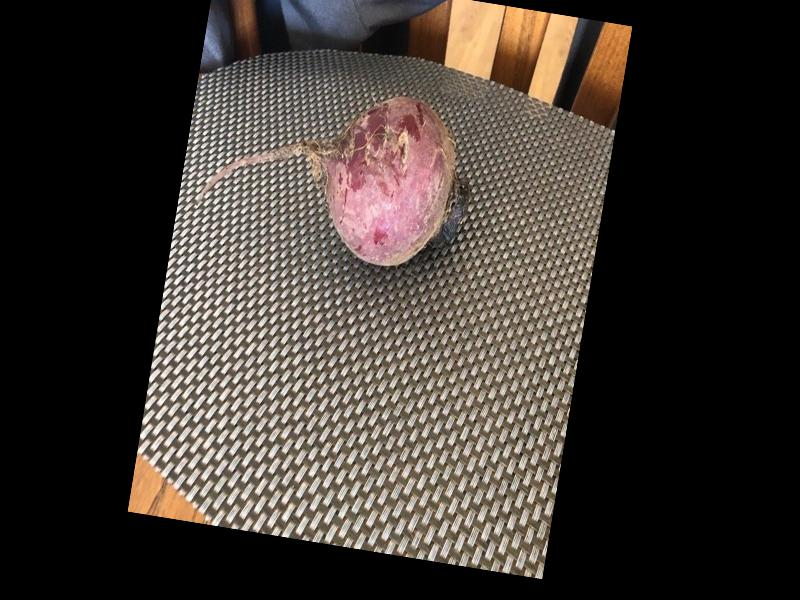Beet: (195, 64, 487, 277)
